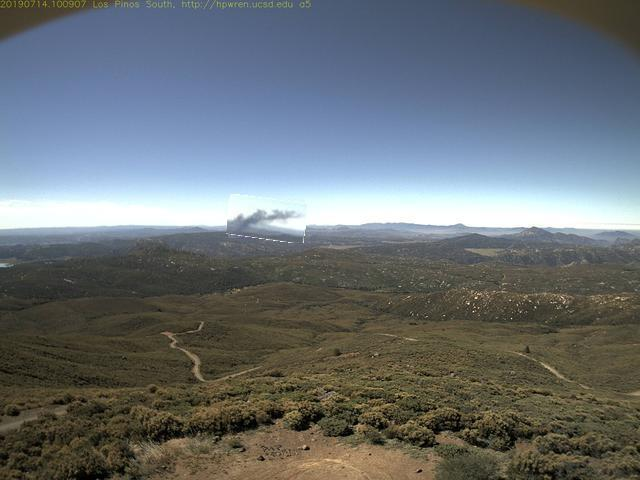smoke: (228, 198, 308, 243)
